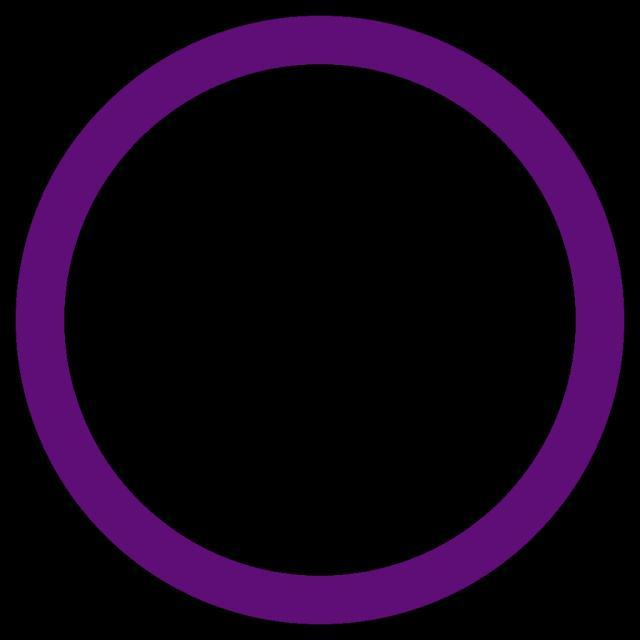Circle: (18, 18, 622, 622)
